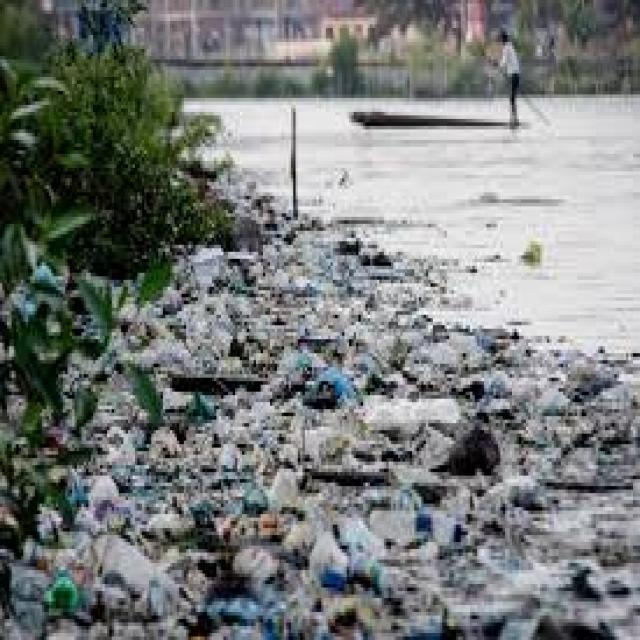heap: (115, 337, 640, 599)
